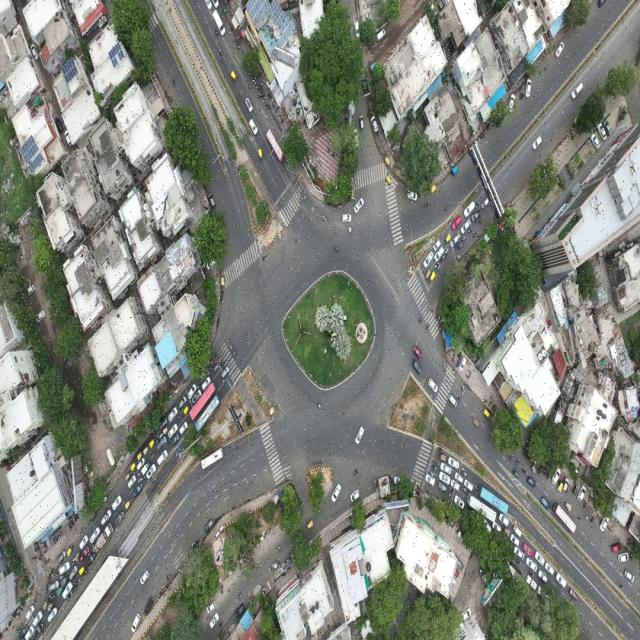3W: (434, 449, 448, 463), (570, 480, 579, 498), (427, 183, 439, 196), (384, 154, 393, 171), (450, 164, 460, 178), (305, 517, 315, 531), (471, 414, 480, 429), (502, 526, 512, 539), (66, 544, 75, 558), (124, 498, 133, 512), (129, 459, 138, 473), (58, 576, 69, 587), (230, 69, 238, 84), (385, 174, 393, 189), (572, 115, 582, 127), (557, 478, 564, 494), (47, 600, 56, 612), (77, 564, 86, 576), (483, 406, 490, 421), (512, 468, 520, 481), (54, 585, 64, 595), (142, 444, 150, 456), (257, 145, 263, 161), (443, 232, 451, 244), (149, 436, 156, 449), (75, 550, 81, 565), (125, 471, 134, 481), (220, 274, 226, 289), (137, 448, 143, 462), (162, 424, 169, 436), (183, 404, 190, 416), (424, 268, 430, 282), (149, 452, 157, 462), (43, 598, 49, 610)
Bus: (194, 392, 223, 436), (188, 378, 218, 420), (464, 491, 498, 524), (477, 484, 511, 516), (552, 500, 578, 536), (264, 125, 286, 165), (199, 449, 226, 472)
Cars: (328, 470, 343, 506), (348, 485, 364, 508), (143, 588, 154, 620), (201, 512, 215, 537), (136, 562, 150, 587), (353, 422, 366, 447), (110, 494, 124, 516), (130, 608, 141, 636), (206, 610, 220, 631), (426, 373, 439, 395), (99, 508, 113, 528), (570, 82, 584, 102), (446, 389, 459, 410), (440, 460, 455, 478), (596, 120, 608, 142), (599, 511, 610, 535), (589, 132, 602, 152), (622, 565, 635, 585), (352, 198, 366, 216), (412, 341, 424, 362), (234, 601, 246, 622), (450, 214, 463, 233), (186, 380, 197, 402), (554, 39, 565, 61), (463, 199, 475, 219), (411, 356, 423, 376), (568, 584, 580, 604), (530, 136, 544, 153), (156, 449, 169, 467), (507, 90, 516, 116), (449, 232, 462, 250), (544, 561, 557, 579), (498, 512, 511, 530), (115, 507, 126, 528), (62, 581, 74, 600), (601, 118, 613, 137), (539, 493, 551, 512), (555, 571, 567, 590), (31, 610, 44, 627), (58, 560, 71, 577), (199, 375, 212, 392), (375, 28, 388, 45), (525, 556, 538, 573), (453, 493, 466, 510), (357, 111, 367, 133), (32, 622, 44, 640), (90, 526, 102, 544), (166, 423, 178, 441), (433, 245, 445, 263), (534, 550, 546, 568), (522, 541, 534, 559), (577, 483, 587, 504), (437, 470, 451, 485), (167, 405, 178, 424), (406, 186, 419, 202), (449, 477, 462, 493), (524, 77, 533, 100), (460, 218, 472, 235), (526, 474, 538, 491), (491, 520, 503, 537), (47, 606, 58, 624), (146, 463, 157, 481), (352, 128, 361, 150), (423, 251, 434, 269), (206, 597, 217, 615), (23, 624, 35, 640), (610, 540, 622, 556), (436, 478, 448, 494), (424, 473, 436, 489), (157, 434, 167, 453), (192, 388, 202, 407), (244, 95, 254, 114), (370, 115, 380, 134), (18, 623, 29, 640), (69, 564, 79, 582), (80, 545, 90, 563), (79, 532, 89, 550), (513, 545, 525, 560), (463, 478, 475, 493), (360, 74, 368, 96), (551, 468, 562, 484), (537, 568, 548, 584), (447, 453, 458, 469), (208, 191, 217, 210), (86, 551, 96, 568), (220, 364, 230, 381), (248, 119, 258, 136), (616, 551, 630, 563), (127, 474, 138, 489), (25, 604, 35, 620), (56, 548, 66, 564), (133, 482, 143, 498), (158, 416, 168, 432), (170, 433, 180, 449), (432, 237, 442, 253), (340, 212, 353, 224), (178, 422, 189, 436), (354, 19, 361, 41), (510, 533, 521, 547), (178, 394, 187, 411), (136, 457, 146, 472), (471, 209, 481, 224), (563, 471, 569, 496), (513, 523, 523, 538), (454, 470, 464, 485), (49, 581, 60, 592), (480, 198, 490, 210), (204, 0, 213, 12)
LCV: (212, 7, 228, 39), (525, 573, 538, 594), (140, 460, 150, 480)
M2W: (350, 464, 361, 479), (274, 541, 281, 555), (429, 469, 437, 481), (474, 198, 481, 211), (190, 538, 197, 551), (320, 213, 328, 224), (454, 251, 462, 262), (446, 482, 454, 493), (298, 190, 305, 202), (423, 322, 431, 332), (514, 557, 522, 567), (162, 582, 170, 592), (589, 511, 594, 526), (172, 76, 178, 88), (214, 26, 220, 38), (460, 382, 466, 394), (477, 217, 484, 227), (236, 591, 243, 601), (229, 341, 235, 352), (582, 498, 587, 511), (256, 91, 265, 98), (416, 316, 423, 325), (528, 569, 535, 578), (445, 489, 452, 498), (436, 443, 443, 452), (43, 585, 49, 595), (217, 46, 223, 56), (617, 580, 623, 590), (461, 470, 468, 478), (51, 535, 56, 546), (440, 253, 445, 264), (138, 476, 144, 485), (179, 407, 185, 416), (424, 200, 430, 209), (454, 240, 460, 249), (134, 466, 139, 476), (33, 546, 40, 553), (333, 245, 340, 252), (625, 538, 632, 545), (431, 464, 438, 471), (206, 370, 212, 378), (210, 352, 216, 360), (460, 235, 466, 243), (455, 393, 461, 401), (461, 486, 467, 494), (46, 557, 51, 566), (480, 134, 485, 143), (443, 375, 448, 384), (59, 574, 65, 581), (260, 79, 266, 86), (262, 96, 268, 103), (519, 96, 525, 103), (507, 455, 513, 462), (515, 459, 521, 466), (520, 468, 526, 475), (434, 459, 440, 466), (51, 570, 55, 580), (59, 529, 63, 539), (70, 588, 75, 596), (78, 575, 83, 583), (71, 557, 75, 567), (209, 359, 214, 367), (232, 350, 237, 358), (466, 228, 474, 233), (473, 232, 478, 240), (533, 458, 537, 468), (49, 592, 55, 598), (39, 553, 43, 562), (32, 555, 38, 561), (54, 534, 58, 543), (82, 569, 88, 575), (195, 384, 201, 390), (215, 352, 219, 361), (235, 45, 241, 51), (252, 76, 258, 82), (253, 80, 257, 89), (256, 82, 260, 91), (445, 245, 449, 254), (214, 365, 219, 372), (436, 265, 441, 272), (630, 551, 633, 562), (147, 478, 151, 486), (142, 474, 146, 482), (159, 432, 163, 440), (57, 532, 60, 542), (176, 415, 181, 421), (221, 361, 226, 367), (222, 378, 227, 384), (526, 451, 529, 461), (538, 465, 541, 475), (540, 464, 543, 474), (75, 581, 79, 588), (88, 550, 92, 557), (138, 470, 142, 477), (167, 439, 171, 446), (218, 356, 222, 363), (267, 103, 270, 112), (266, 93, 270, 99), (624, 546, 628, 552), (220, 622, 223, 630), (156, 439, 159, 446), (544, 467, 546, 477), (524, 449, 526, 458)
Truck: (91, 521, 113, 556)
